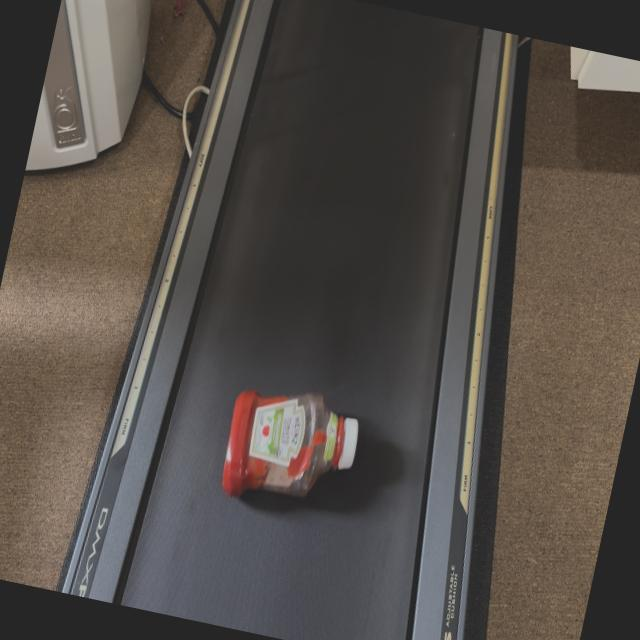Trash: (214, 374, 367, 522)
